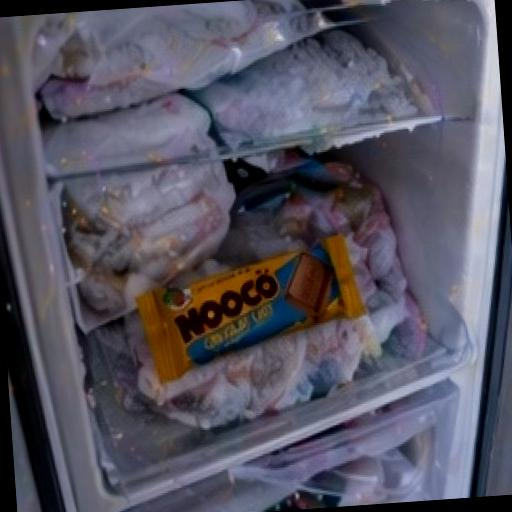nooco: (114, 202, 385, 396)
